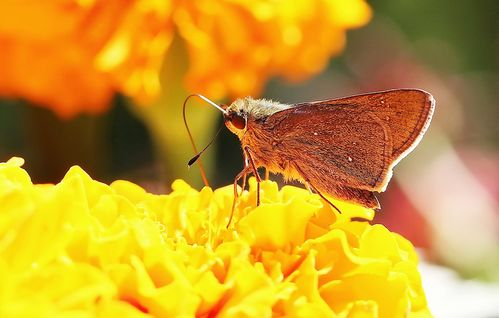Hesperiidae: (181, 89, 437, 231)
